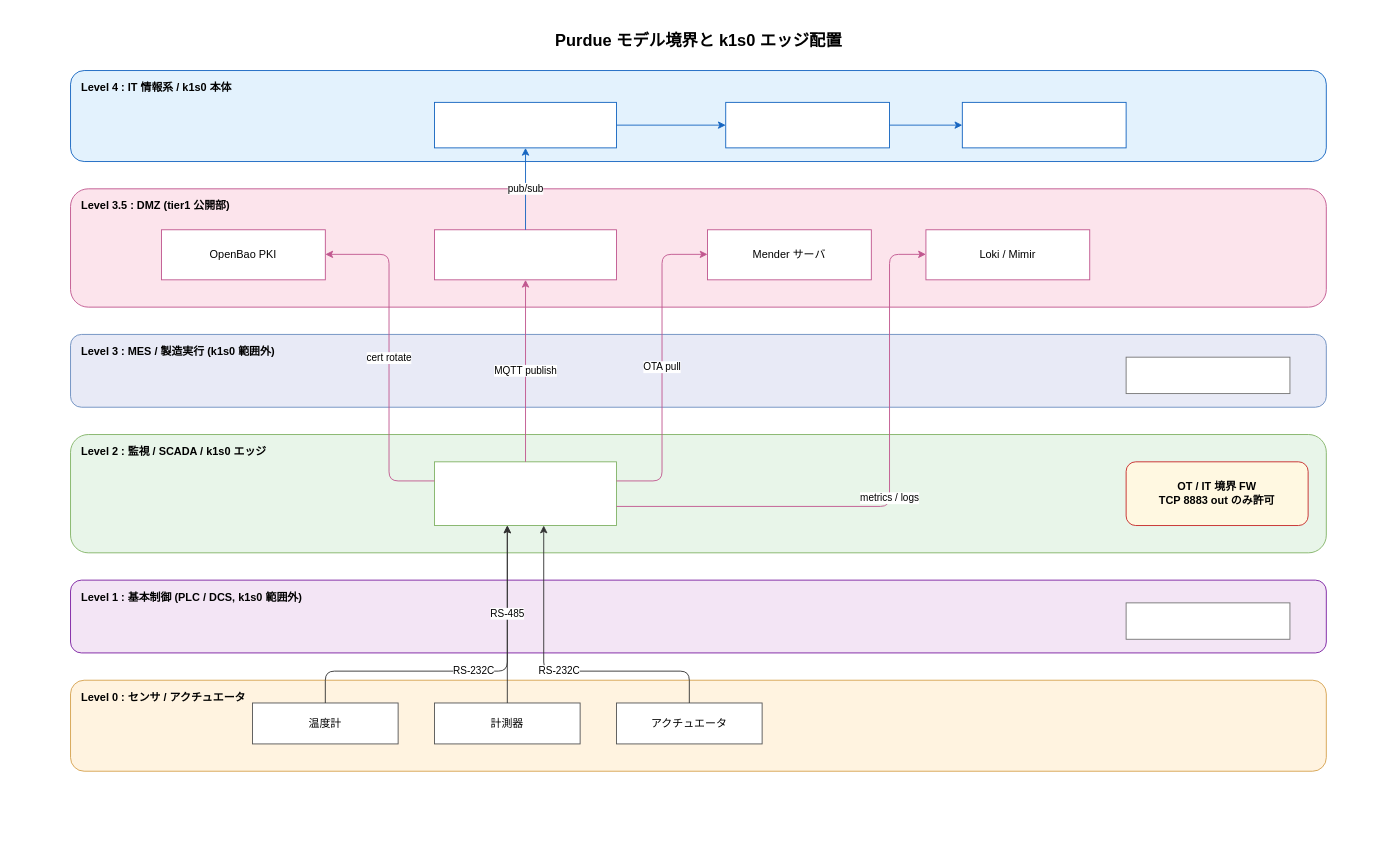
The diagram is 1396 pixels wide and 850 high, and some of its shapes have lost their labels. The centre of each missing label's shape, as x and y in pixels:
"MES (既存)" belongs at point 1207,375.
"MQTT Broker (EMQX)" belongs at point 525,254.
"PLC (既存)" belongs at point 1207,620.
"tier1 Dapr / Kafka" belongs at point 525,124.
"tier2 ドメイン" belongs at point 807,124.
"tier3 業務アプリ" belongs at point 1043,124.
"エッジ Pi (RS-232C / RS-485 収容)" belongs at point 525,493.
